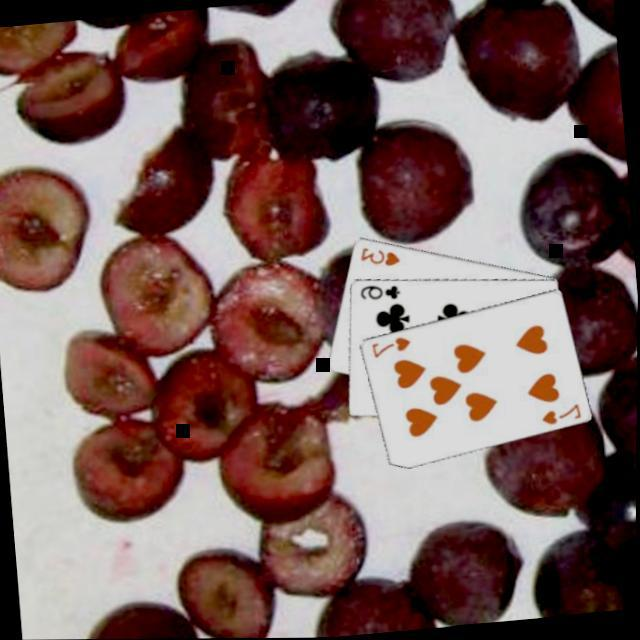3H: (355, 243, 402, 273)
6C: (355, 281, 402, 307)
7H: (366, 334, 413, 363), (537, 402, 584, 431)
